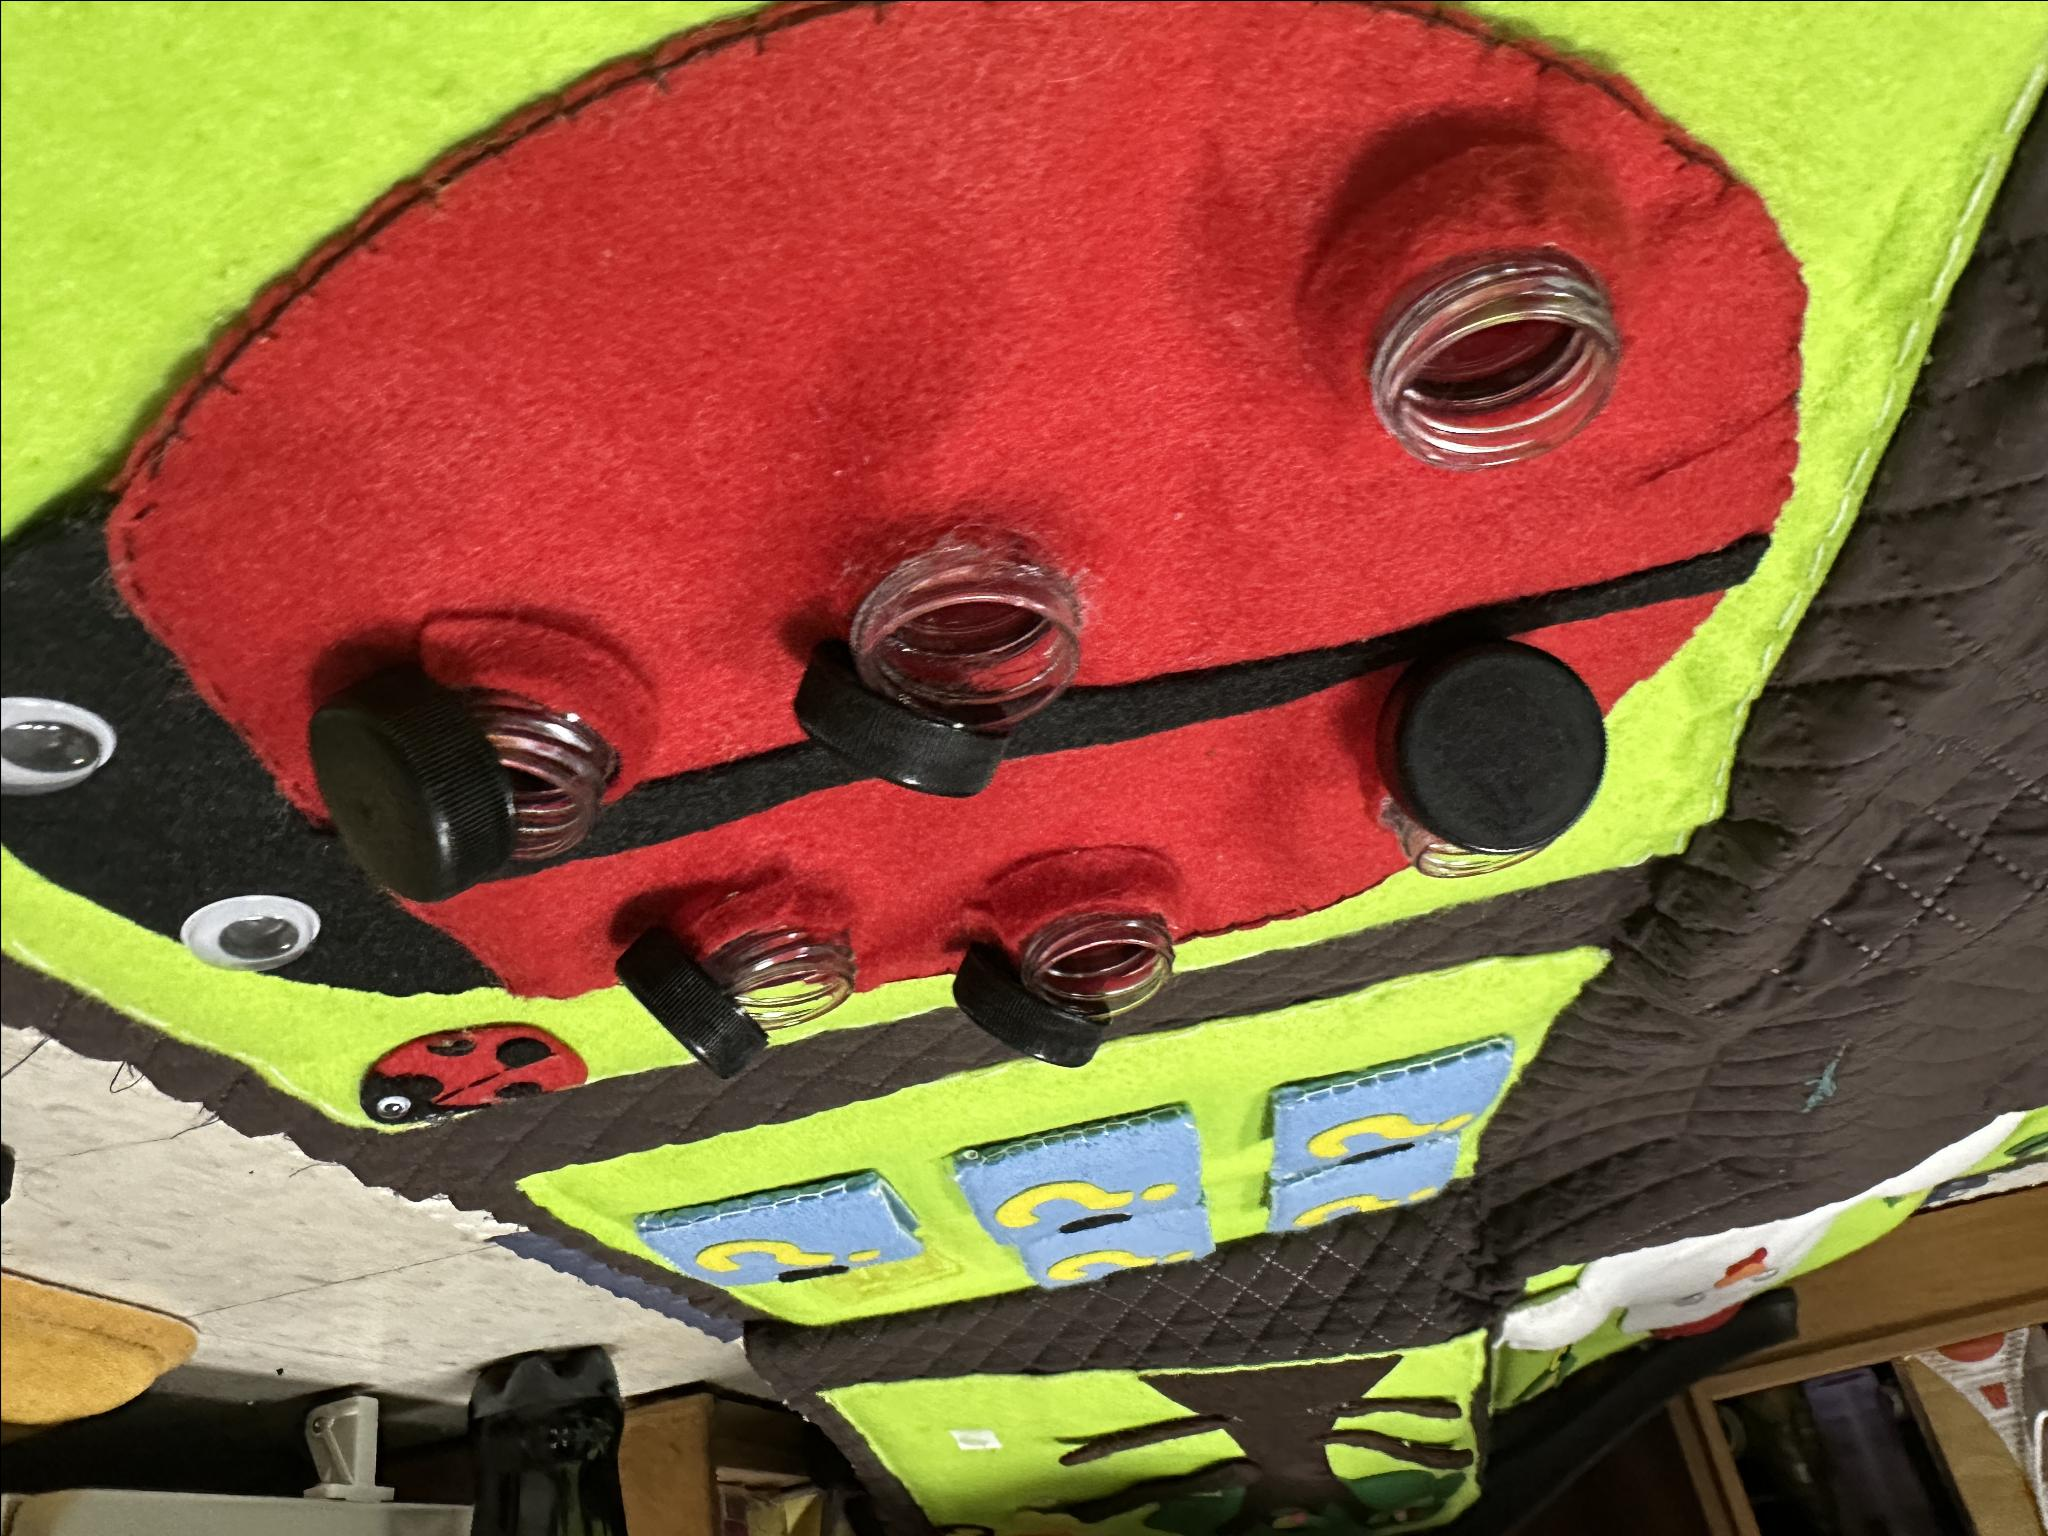cap_ng: (279, 597, 661, 920), (769, 518, 1111, 802), (1337, 616, 1624, 899), (947, 857, 1209, 1075), (613, 881, 879, 1083)
